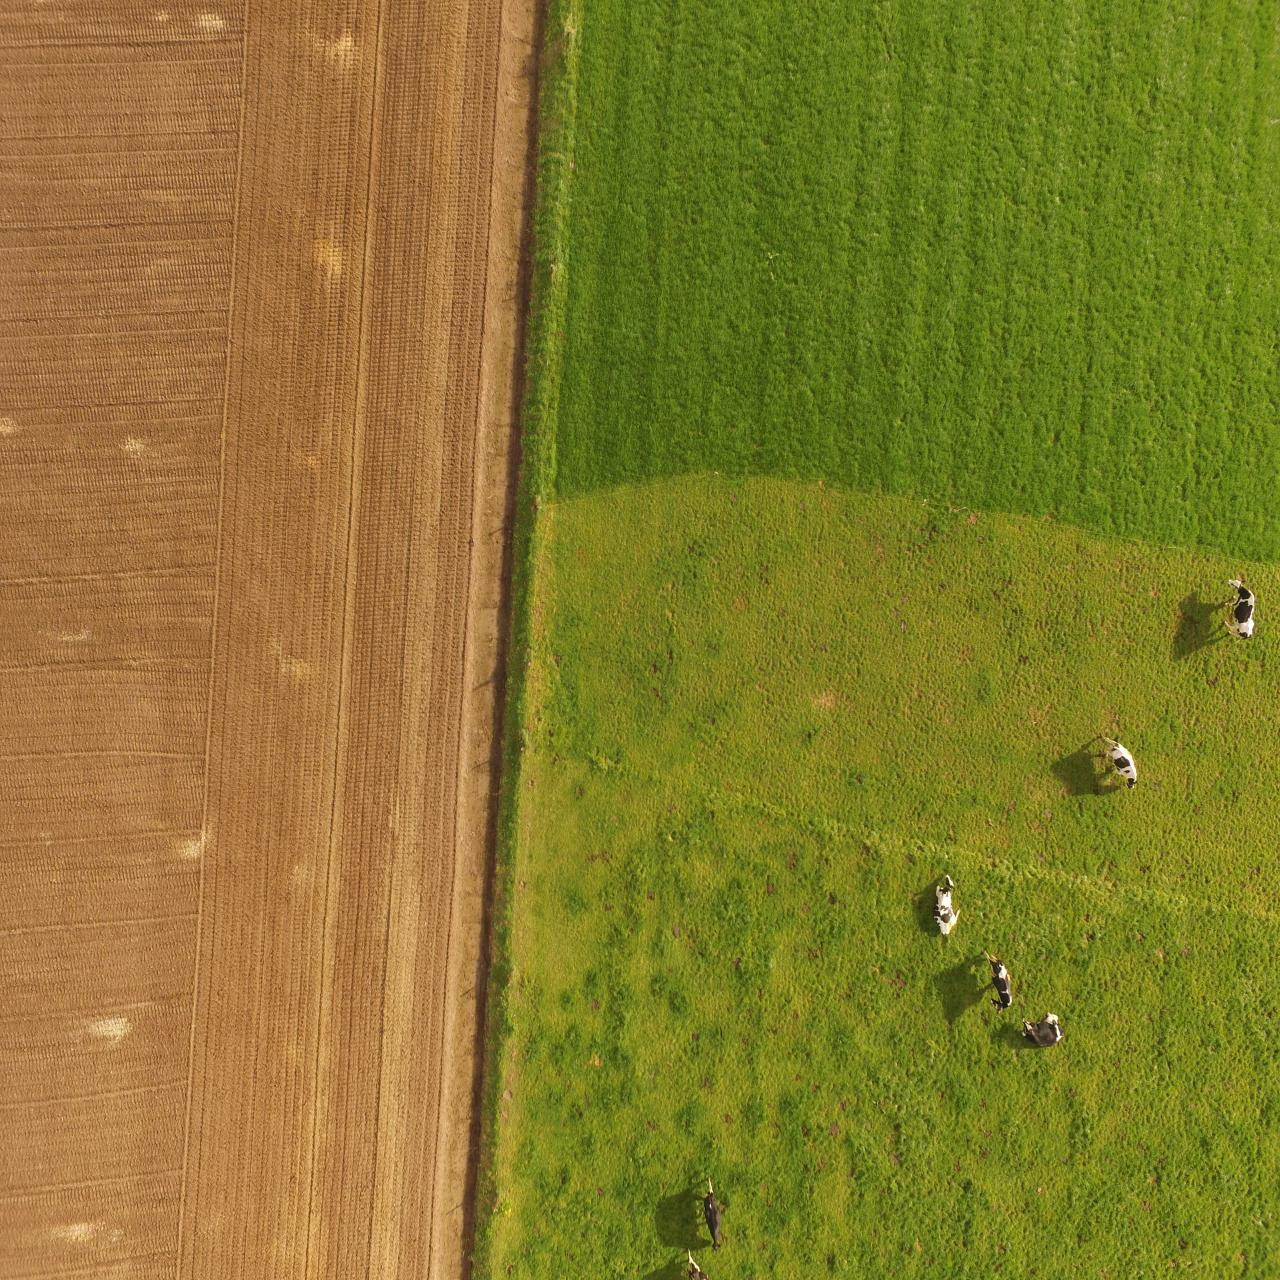cow: (1220, 570, 1259, 644), (700, 1170, 731, 1260), (981, 945, 1015, 1014), (931, 870, 961, 942), (1103, 735, 1139, 792), (1019, 1014, 1064, 1057)
